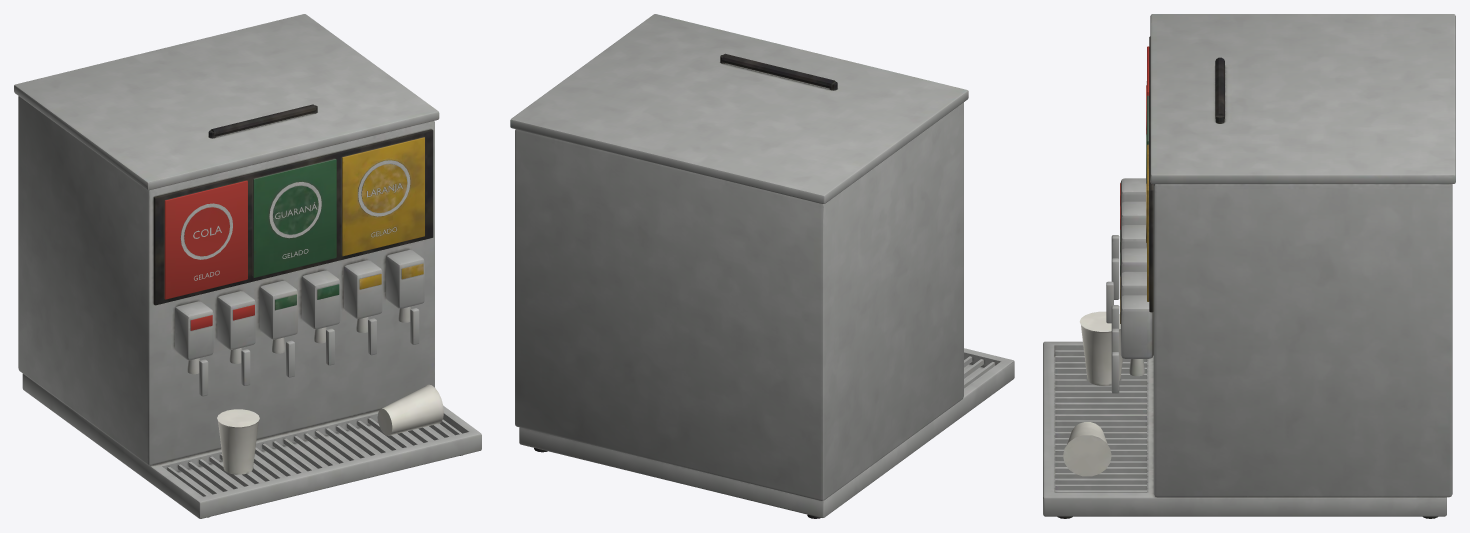
The model's file is maquina_refrigerante.glb.
3 views of the same model, side by side, from view 1: azimuth 30°, elevation 25°; view 2: azimuth 150°, elevation 25°; view 3: azimuth 270°, elevation 25° (orthographic). The views are drawn at different scales.
Visible parts, largest first — view 1: maquina; view 2: maquina; view 3: maquina.
Boxes of the visible parts, x1=… form: maquina: x1=14, y1=14, x2=481, y2=518; maquina: x1=510, y1=14, x2=1014, y2=518; maquina: x1=1043, y1=14, x2=1455, y2=518.
Bounding box in the file's own units: 0.692 × 0.7166 × 0.746.
1 material, 1 textured.
